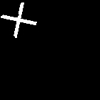single_crochet: (1, 3, 36, 37)
